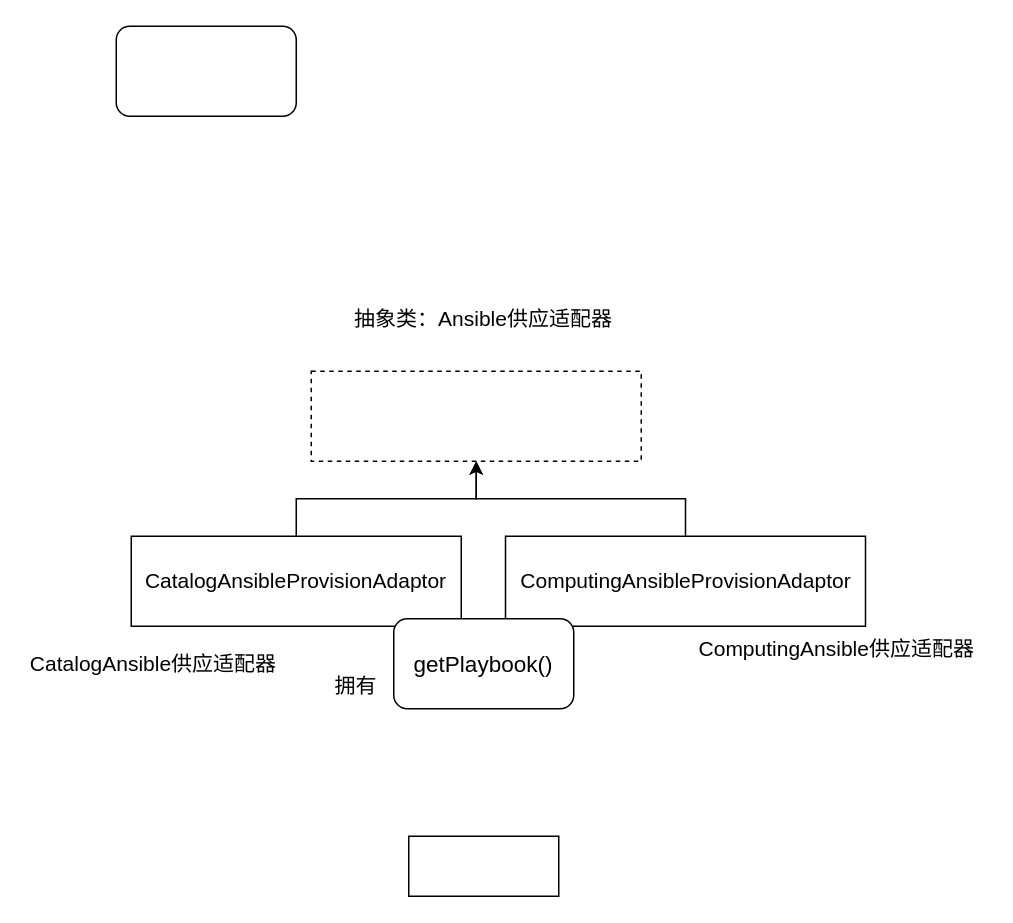
Some shapes in this 1013 by 923 pixel diagram are drawn without their labels. Here are the shapes that lost their labels. From the top down, the centre of each, then its label:
At pixel 475 415: "AnsibleProvisionAdaptor".
At pixel 483 865: "全局属性".
